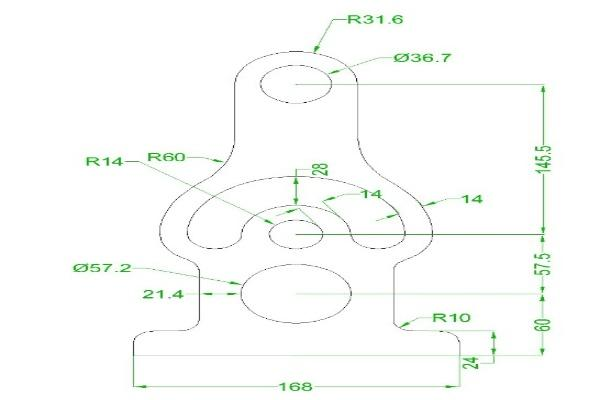dimensions: (389, 41, 455, 70), (62, 255, 141, 278), (346, 9, 409, 34), (525, 139, 559, 178), (267, 376, 326, 396), (136, 284, 190, 304), (428, 305, 478, 326), (528, 246, 556, 281), (142, 148, 189, 167), (458, 348, 484, 380), (83, 154, 126, 172), (455, 186, 486, 210), (356, 182, 386, 204), (307, 161, 333, 184), (528, 315, 556, 336)
